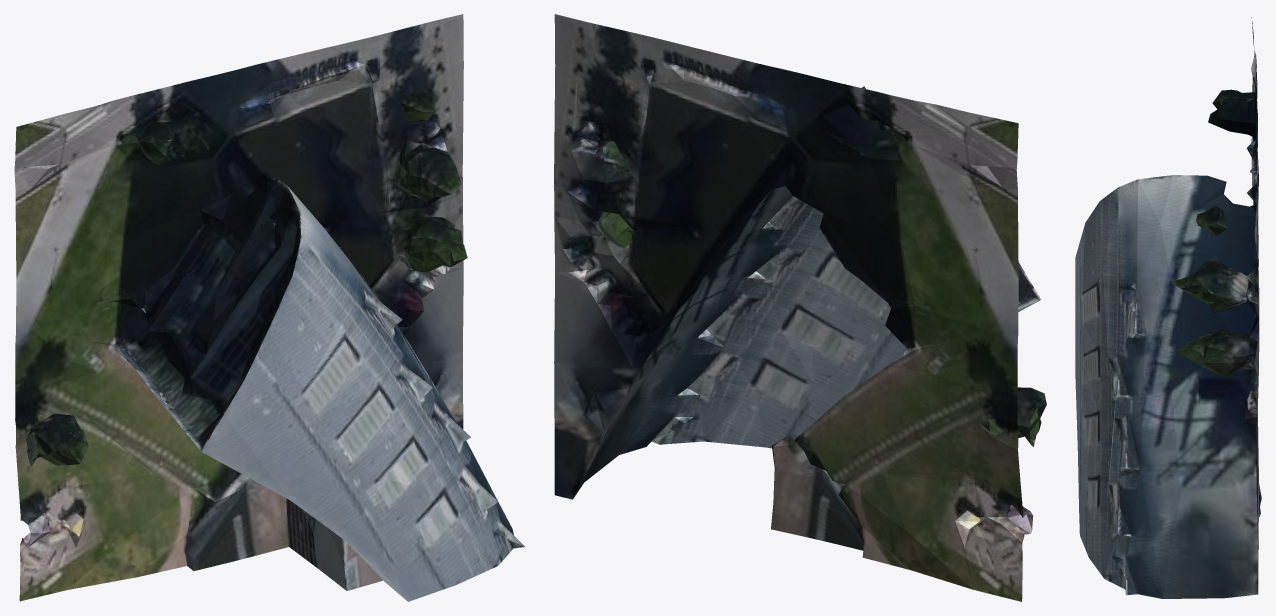
The model's file is Tile_+032_+022_L18_00011.obj.
3 renders of one model, left to right at view 1: azimuth 30°, elevation 25°; view 2: azimuth 150°, elevation 25°; view 3: azimuth 270°, elevation 25°, orthographic. The views are drawn at different scales.
Bounding box in the file's own units: 63 × 63 × 26.57.
1 material, 1 textured.
